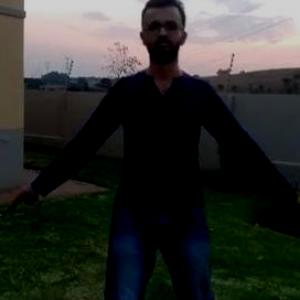land: (16, 0, 299, 291)
